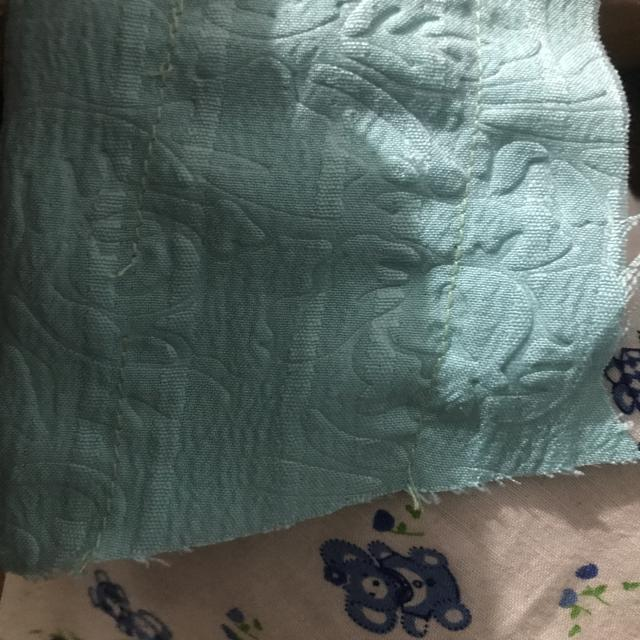broken: (104, 243, 165, 361)
